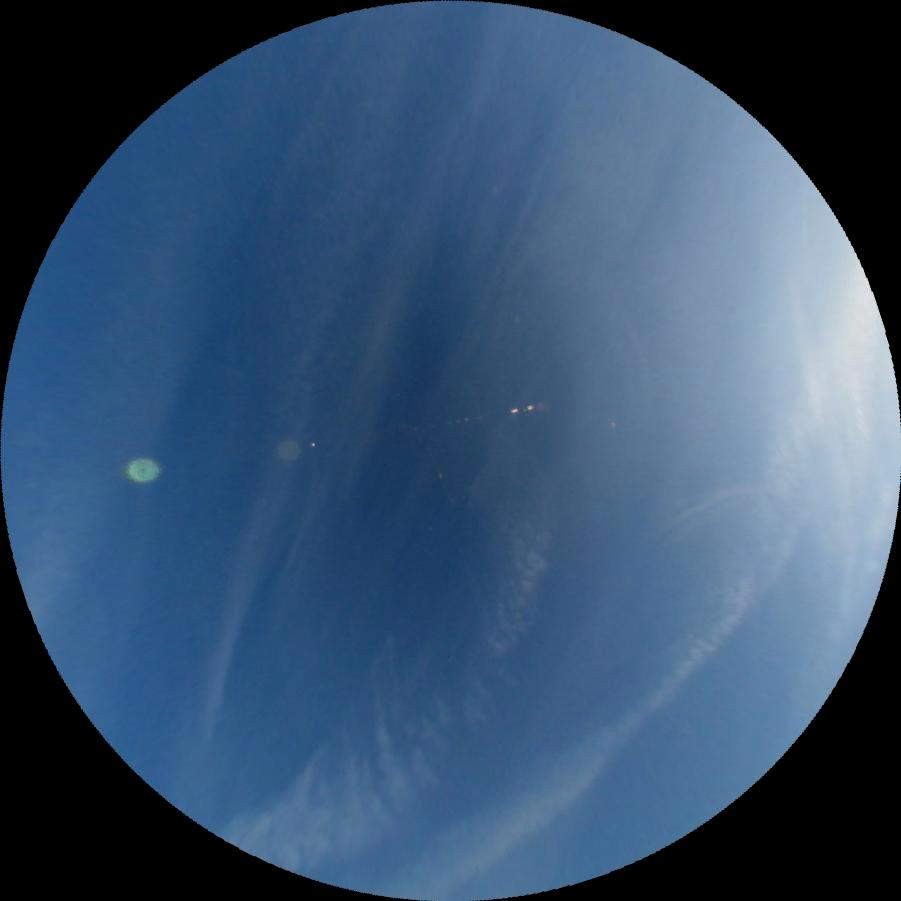contrail veryold: (214, 428, 619, 901), (381, 545, 821, 901)
